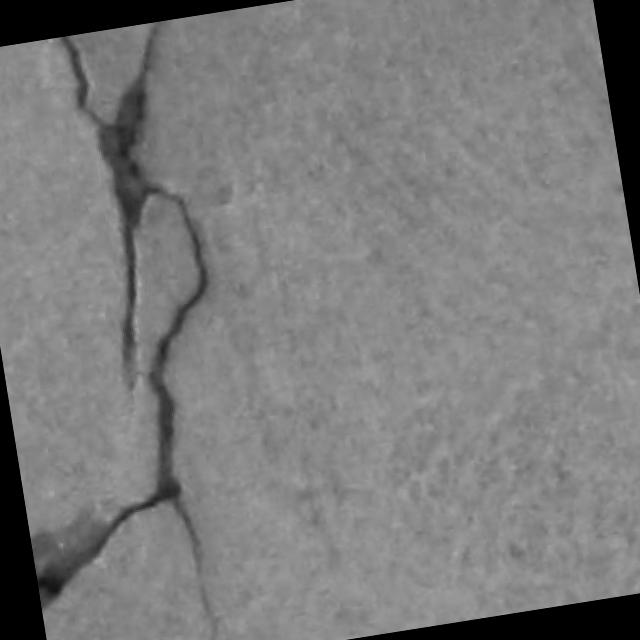crack: (31, 22, 208, 608), (79, 22, 162, 386), (60, 36, 88, 110)
